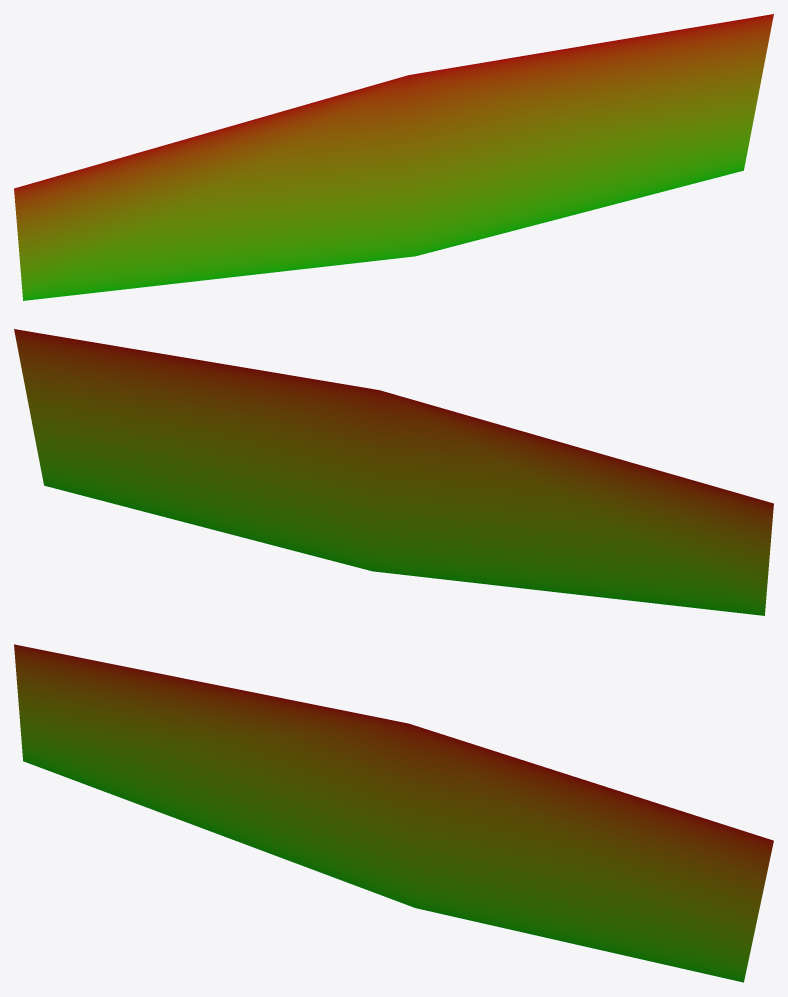
Rendered from Alpine Bearberry_LOD5_Var8_xb0gdazqx.fbx.
The picture shows the model from 3 angles, top to bottom: view 1: azimuth 30°, elevation 25°; view 2: azimuth 150°, elevation 25°; view 3: azimuth 330°, elevation 25°; orthographic projection.
Visible parts, largest first — view 1: _3pug_Var8_LOD5; view 2: _3pug_Var8_LOD5; view 3: _3pug_Var8_LOD5.
Boxes of the visible parts, bbox=[...] form: _3pug_Var8_LOD5: bbox=[14, 14, 773, 300]; _3pug_Var8_LOD5: bbox=[14, 329, 773, 615]; _3pug_Var8_LOD5: bbox=[14, 644, 773, 982].
Bounding box in the file's own units: 68.14 × 15.67 × 0.
